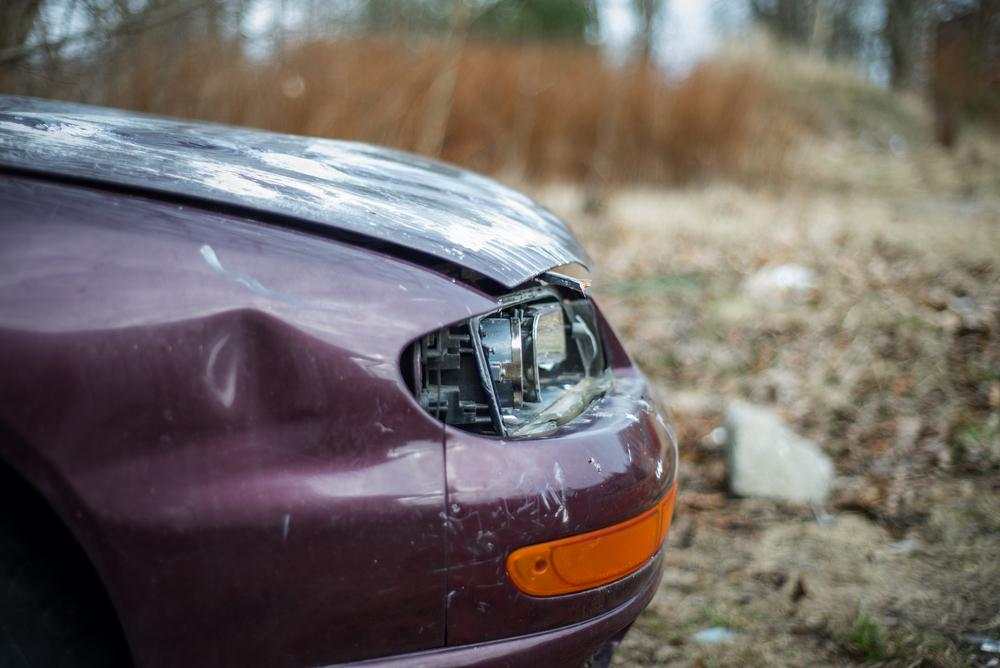dent: (67, 307, 442, 524)
lamp broken: (476, 299, 603, 438)
